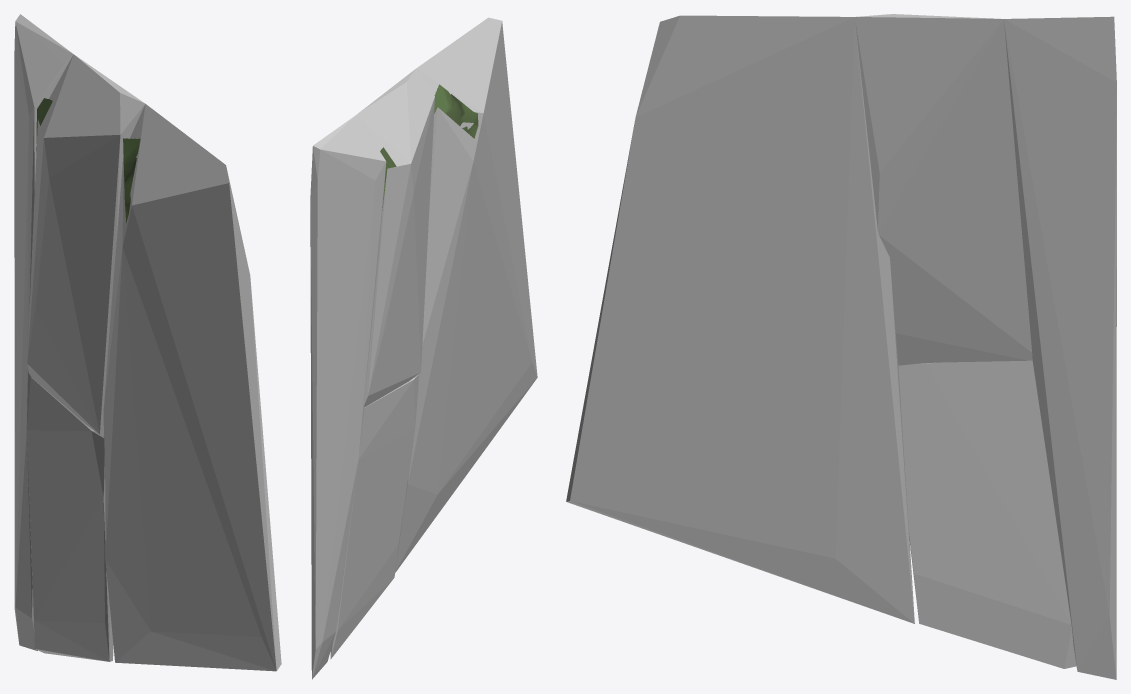
The model's file is SM_Env_Leaves_Clump_01.fbx.
3 renders of one model, left to right at view 1: azimuth 30°, elevation 25°; view 2: azimuth 150°, elevation 25°; view 3: azimuth 270°, elevation 25°, orthographic. The views are drawn at different scales.
Parts seen in each view (by area): view 1: SM_Env_Leaves_Clump_01_ConvexHulls, SM_Env_Leaves_Clump_01; view 2: SM_Env_Leaves_Clump_01_ConvexHulls, SM_Env_Leaves_Clump_01; view 3: SM_Env_Leaves_Clump_01_ConvexHulls.
Boxes of the visible parts, x1,y1,x2,y2 form: SM_Env_Leaves_Clump_01_ConvexHulls: (14, 14, 281, 671); SM_Env_Leaves_Clump_01: (36, 98, 140, 222); SM_Env_Leaves_Clump_01_ConvexHulls: (310, 17, 537, 679); SM_Env_Leaves_Clump_01: (380, 84, 478, 210); SM_Env_Leaves_Clump_01_ConvexHulls: (566, 14, 1116, 679).
Bounding box in the file's own units: 9.86 × 92.68 × 123.
Materials: 2 (1 with a texture image).
